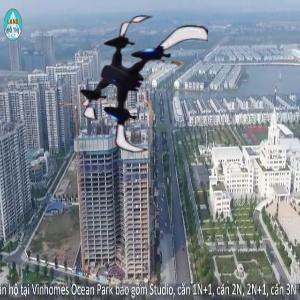drone: (64, 13, 208, 157)
